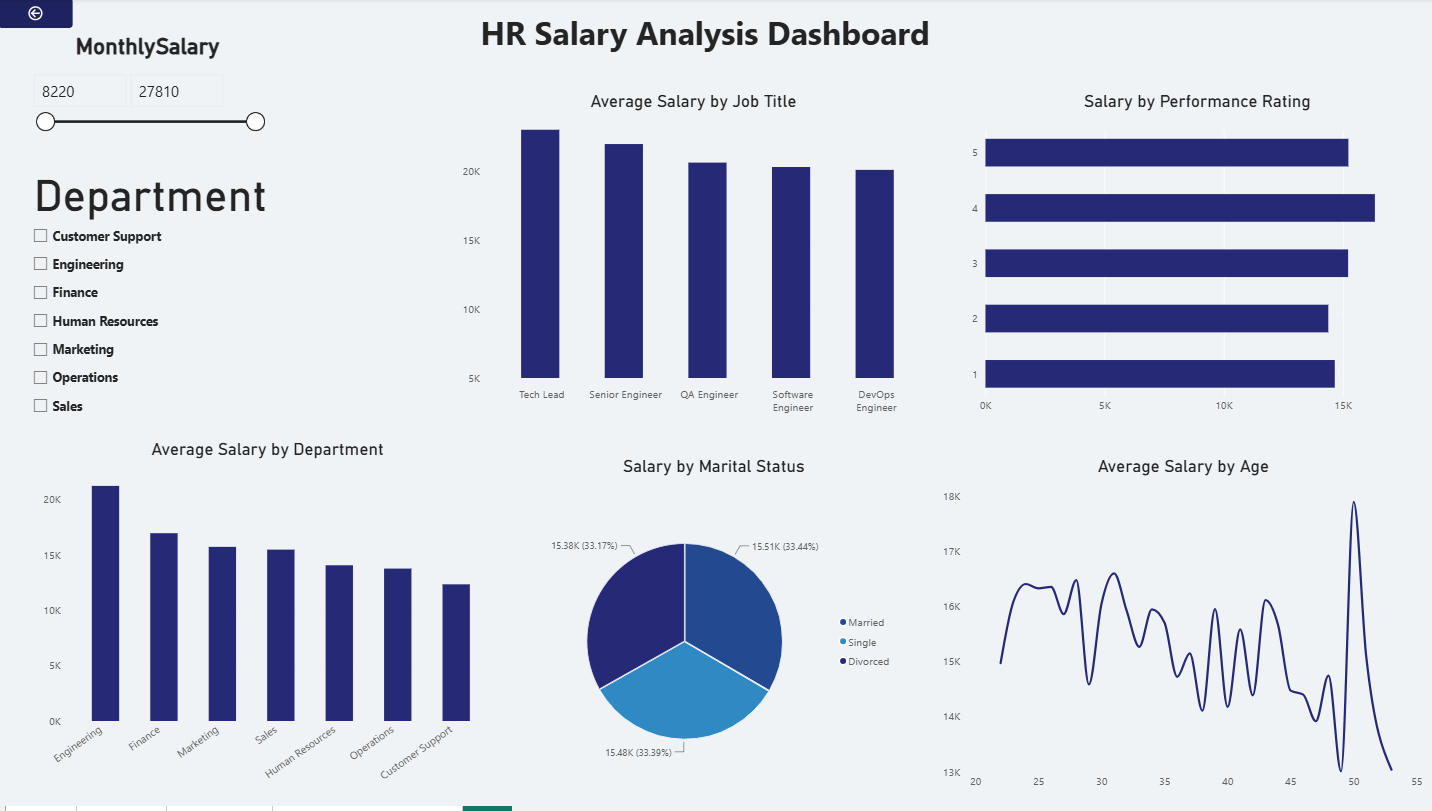

This screenshot's page, from the dashboard's own definition file:
{"tool":"powerbi","page":{"name":"salary","canvas":[1920,1080],"ordinal":1},"visuals":[{"type":"columnChart","title":"Average Salary by Department","fields":{"Category":["HR_Data.Department"],"Y":["Avg(HR_Data.MonthlySalary)"]},"box":[40,574,640,506],"z":0},{"type":"pieChart","title":"Salary by Marital Status","fields":{"Category":["HR_Data.MaritalStatus"],"Y":["Avg(HR_Data.MonthlySalary)"]},"box":[696,598,520,482],"z":1000},{"type":"lineChart","title":"Average Salary by Age","fields":{"Category":["HR_Data.Age"],"Y":["Avg(HR_Data.MonthlySalary)"]},"box":[1244.9,598,675.5,479.6],"z":2000},{"type":"columnChart","title":"Average Salary by Job Title","fields":{"Category":["HR_Data.JobTitle"],"Y":["Avg(HR_Data.MonthlySalary)"]},"box":[596,110,666,464],"z":3000},{"type":"clusteredBarChart","title":"Salary by Performance Rating","fields":{"Category":["HR_Data.PerformanceRating"],"Y":["Avg(HR_Data.MonthlySalary)"]},"box":[1283.7,110.2,636,464],"z":4000},{"type":"actionButton","box":[0,0,100,40],"z":5000},{"type":"slicer","title":"MonthlySalary","fields":{"Values":["HR_Data.MonthlySalary"]},"box":[40,46,320,182],"z":6000},{"type":"slicer","fields":{"Values":["HR_Data.Department"]},"box":[40,228,362,346],"z":7000},{"type":"textbox","box":[360,0,1156,74],"z":8000}]}

Visuals, with their boxes in screenshot pixels (x1, y1, x2, y2), scaled from the page's 1920x1080 canvas onto the 1432x811 screenshot:
"Average Salary by Department" columnChart: select_region(30, 431, 507, 810)
"Salary by Marital Status" pieChart: select_region(519, 449, 907, 810)
"Average Salary by Age" lineChart: select_region(928, 449, 1431, 809)
"Average Salary by Job Title" columnChart: select_region(445, 83, 941, 431)
"Salary by Performance Rating" clusteredBarChart: select_region(957, 83, 1431, 431)
actionButton: select_region(0, 0, 75, 30)
"MonthlySalary" slicer: select_region(30, 35, 268, 171)
slicer - HR_Data.Department: select_region(30, 171, 300, 431)
textbox: select_region(268, 0, 1131, 56)
